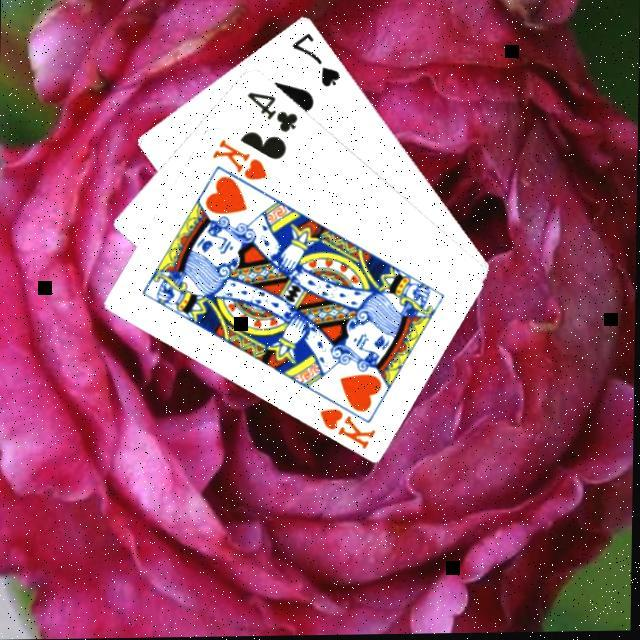4C: (241, 87, 300, 136)
7S: (287, 28, 342, 90)
KH: (314, 403, 378, 452), (207, 134, 270, 183)
